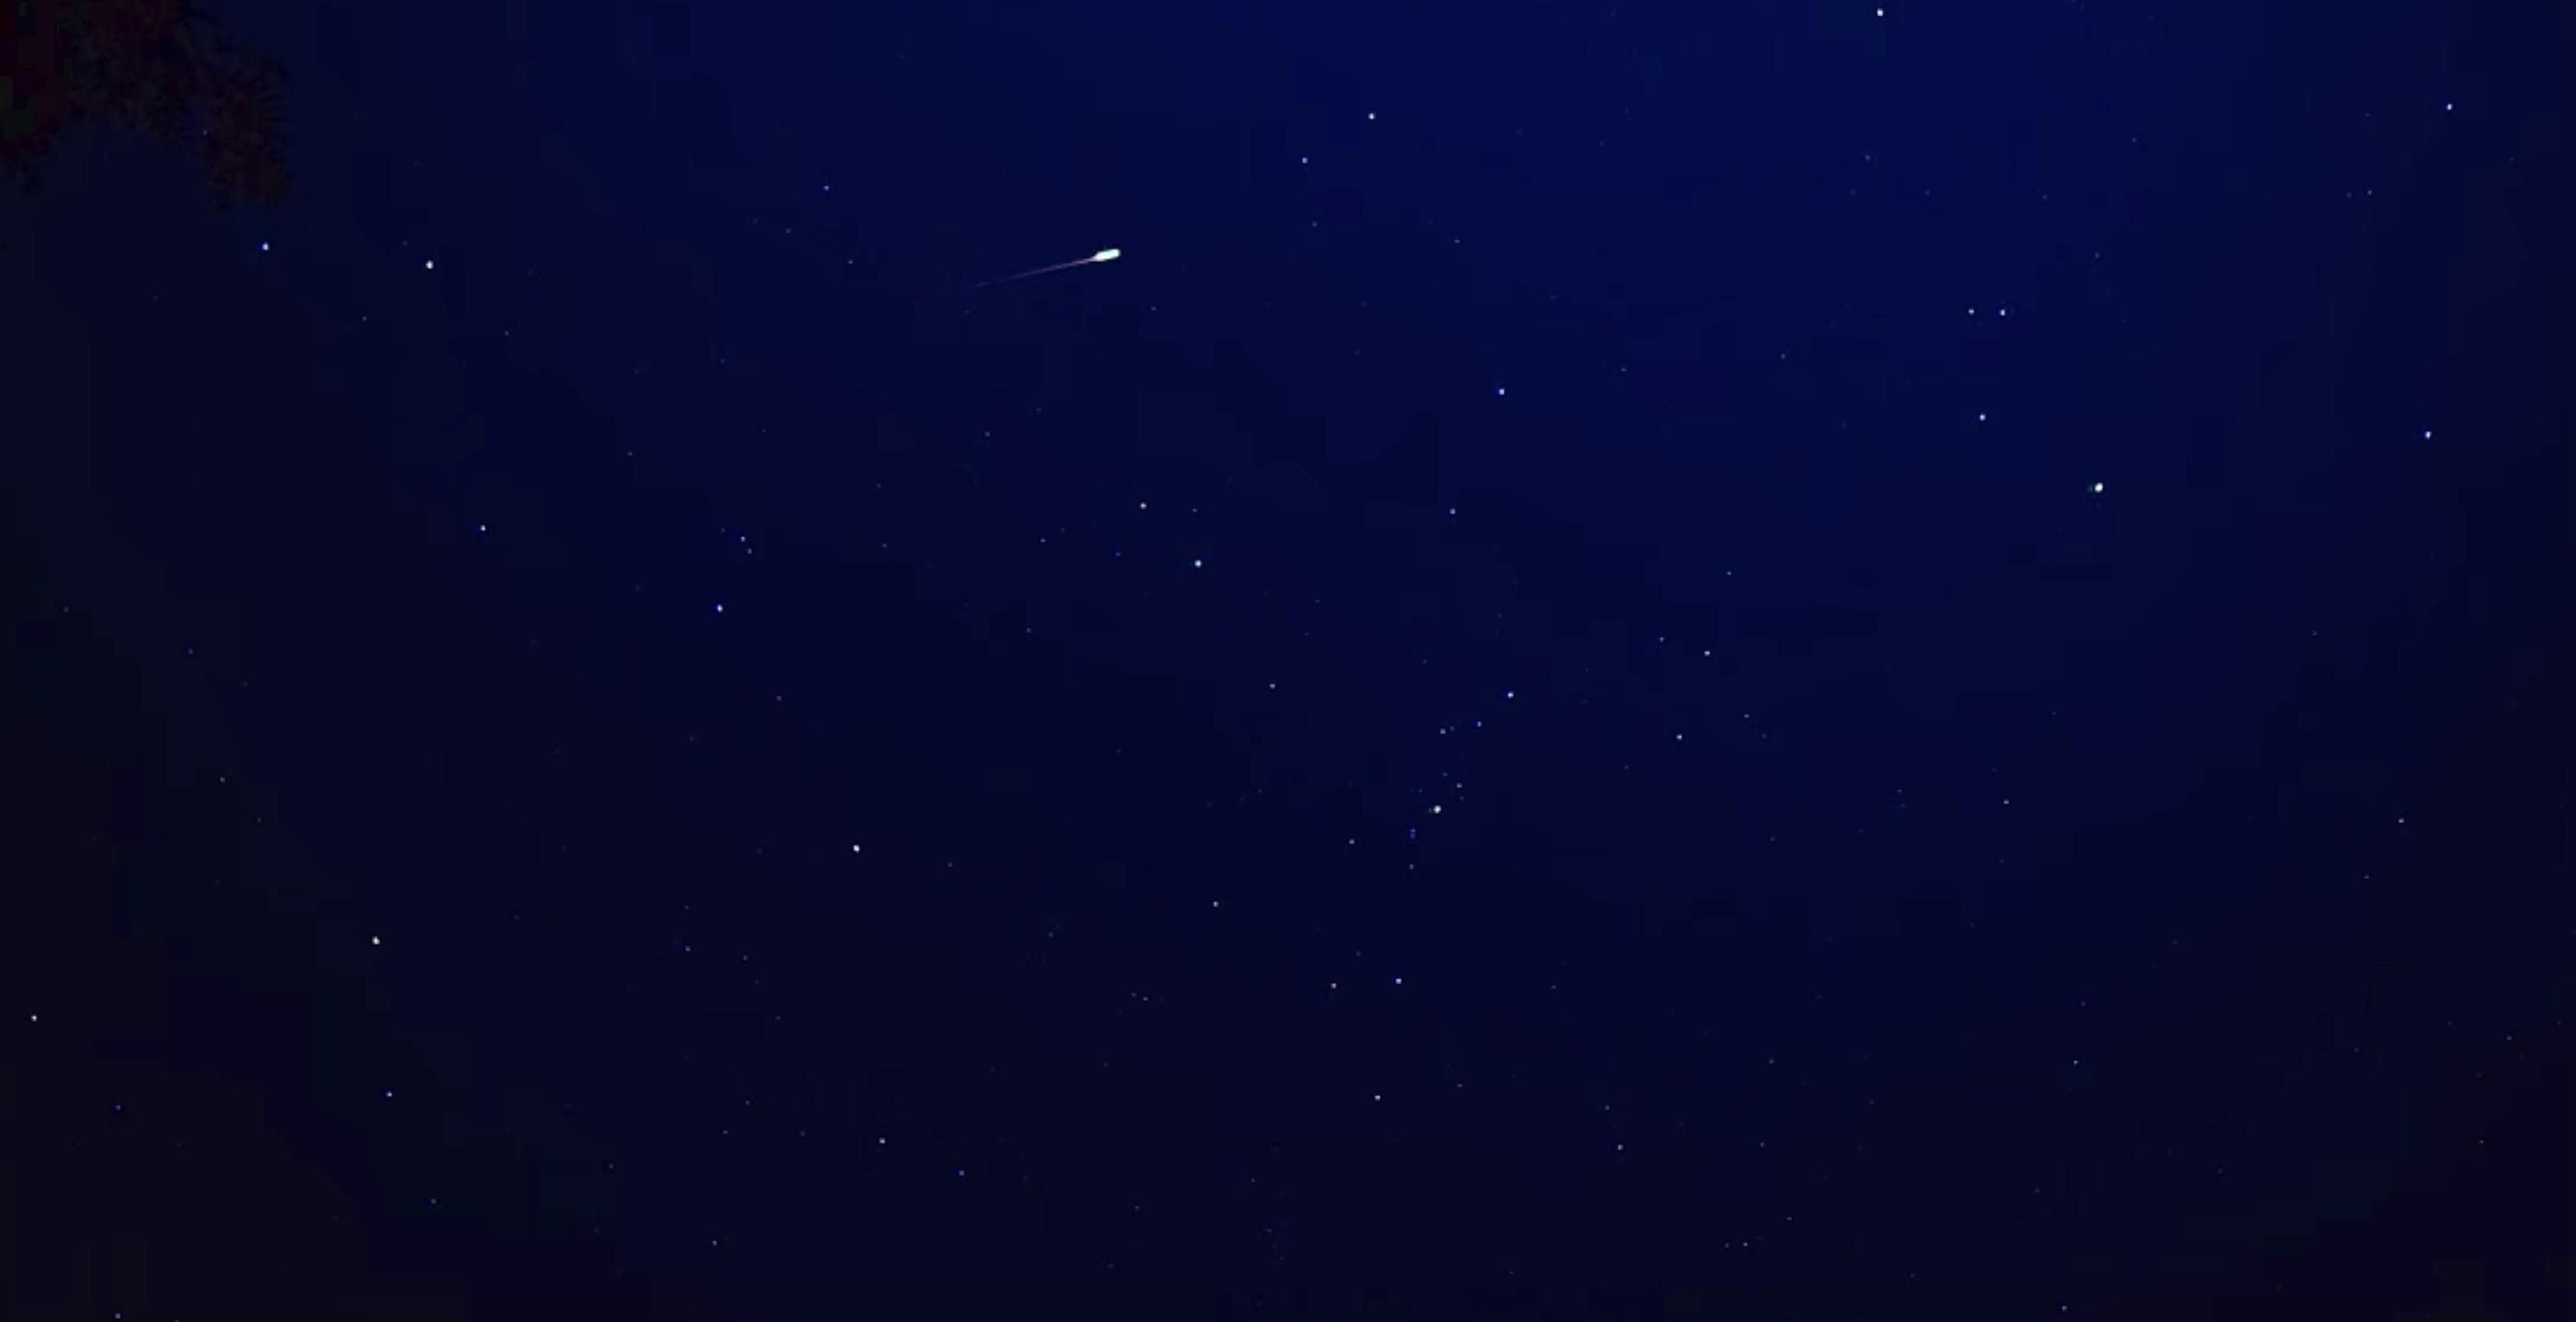meteorite: (906, 233, 1191, 300)
